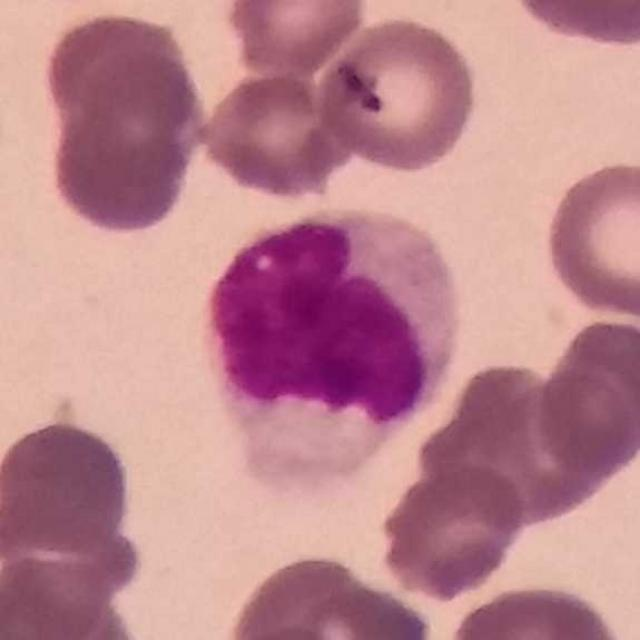Monocyte: (196, 205, 462, 502)
RBC: (416, 362, 627, 532), (309, 11, 483, 176), (375, 460, 530, 602), (38, 5, 194, 136), (195, 67, 347, 201), (0, 415, 137, 559), (224, 550, 437, 640), (531, 313, 640, 482), (538, 154, 640, 325), (47, 116, 190, 234), (219, 0, 373, 78), (0, 552, 136, 640), (443, 579, 629, 640), (502, 0, 640, 50), (222, 621, 358, 640)
